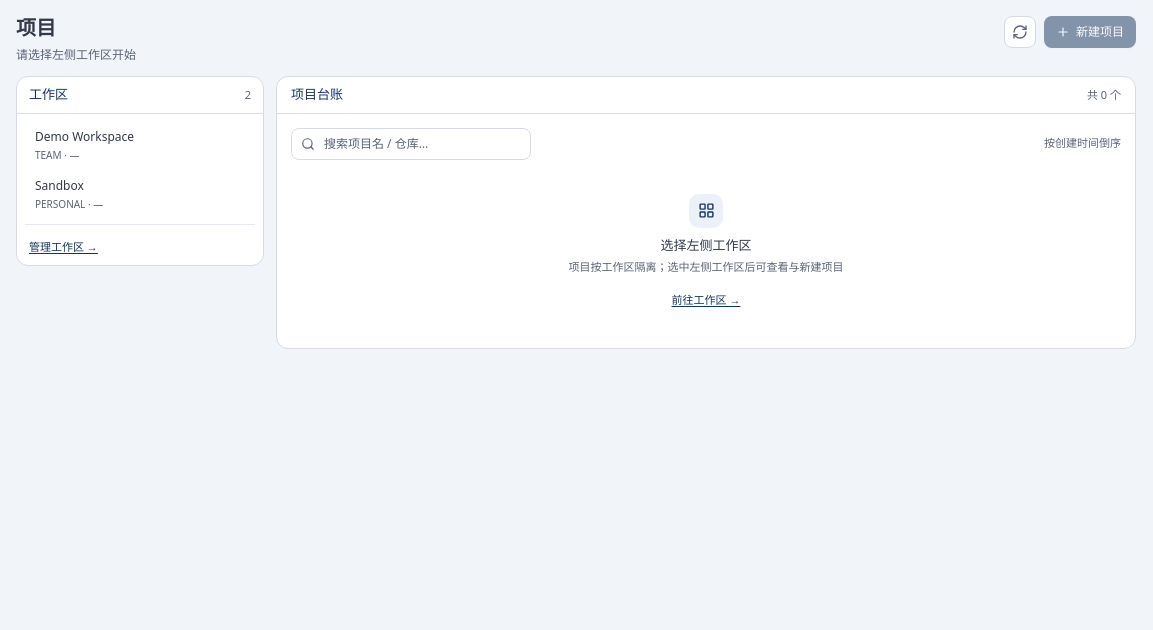
it: Projects › Git 面板展示元信息 + 降级标注（不伪造实时状态）
The image size is (1153, 630).
Click the button "Demo Workspace TEAM · —": click(140, 145) [25, 122, 255, 168]
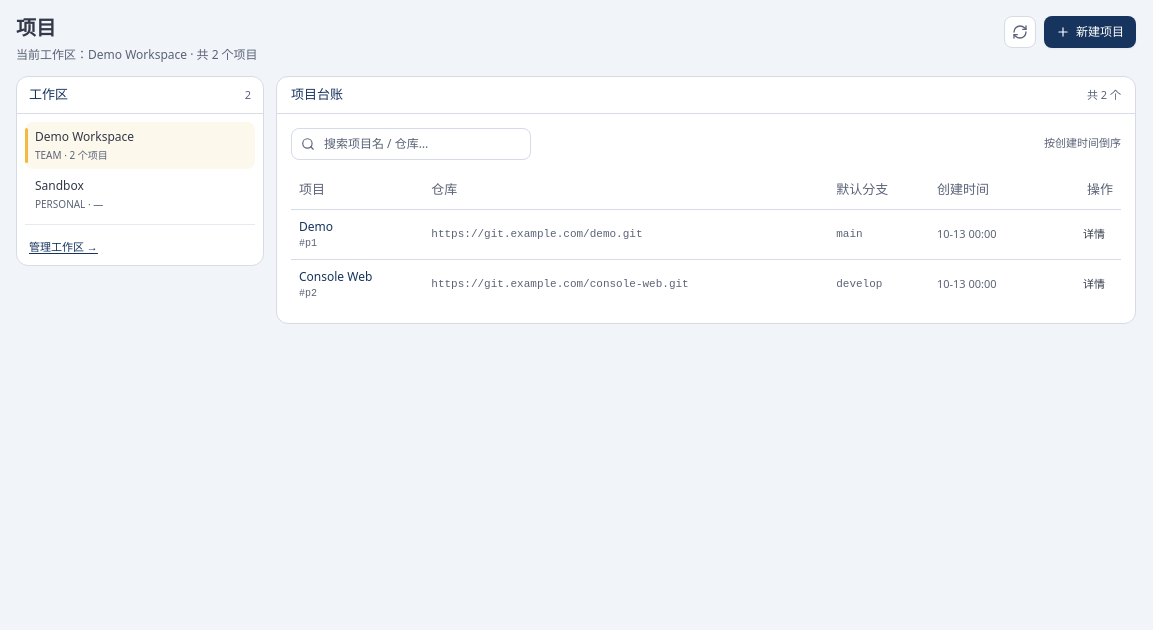
Click the button with test id "project-select-p1": click(1094, 234) [1075, 222, 1113, 246]
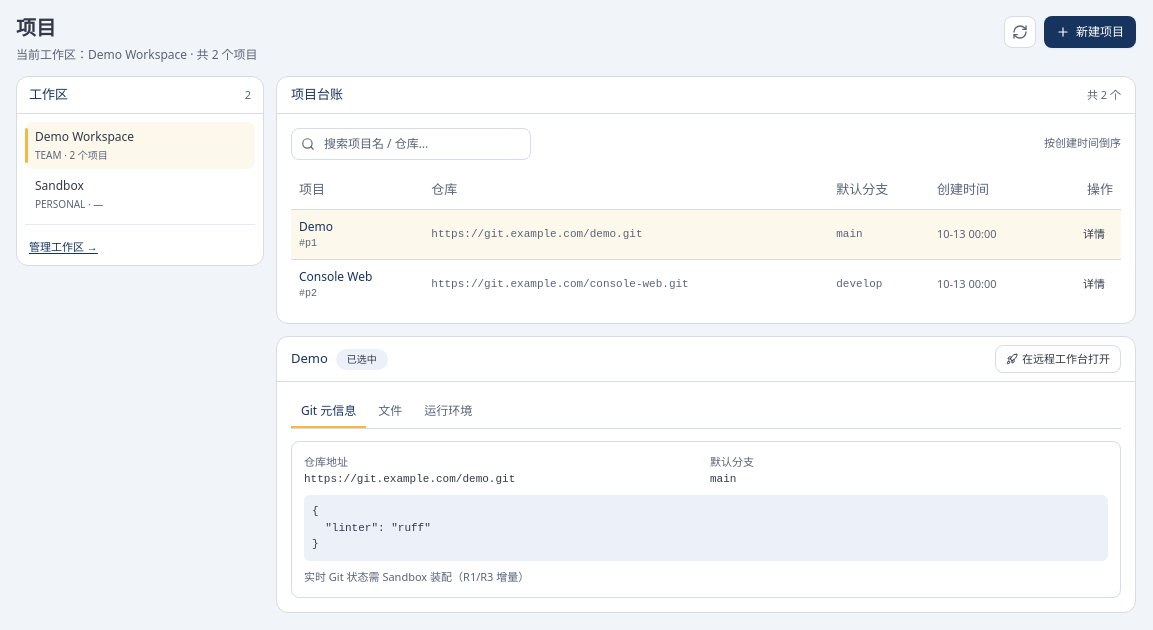
Check: the element with test id "project-detail" is shown, box [276, 336, 1136, 613]
Check: the text with test id "project-repo-url" reads "https://git.example.com/demo.git", box [304, 472, 515, 484]
Check: the text with test id "project-default-branch" reads "main", box [710, 472, 736, 484]
